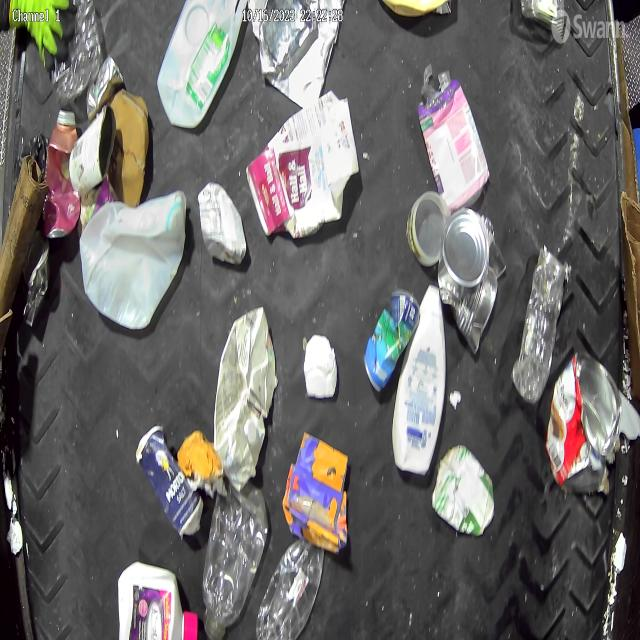can: (438, 207, 507, 355), (548, 350, 621, 482), (69, 103, 117, 192), (23, 230, 51, 327), (86, 55, 124, 122)
milk_jug: (80, 188, 187, 331), (158, 1, 247, 129)
non_white_jug: (245, 90, 360, 240), (214, 305, 276, 492), (394, 284, 449, 476), (282, 432, 348, 554), (118, 562, 198, 640)
plastic_bottle: (202, 481, 269, 640), (256, 540, 324, 639)
